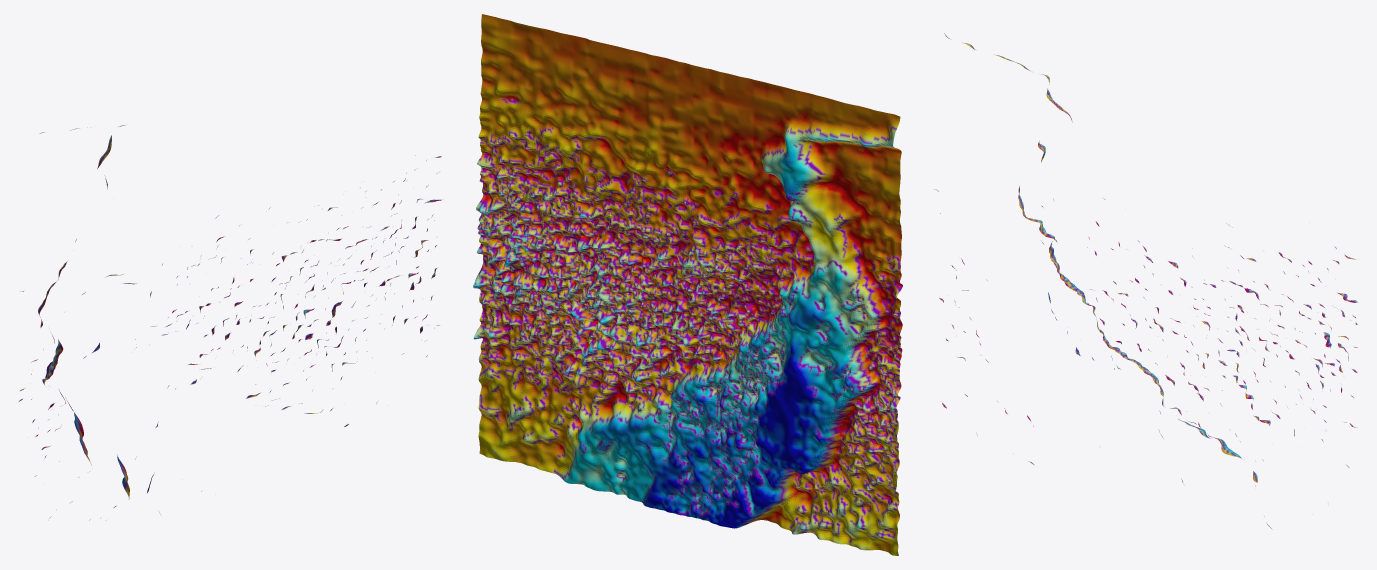
3 views of the same model, side by side, from view 1: azimuth 30°, elevation 25°; view 2: azimuth 150°, elevation 25°; view 3: azimuth 330°, elevation 25° (orthographic).
Parts seen in each view (by area): view 1: world; view 2: world; view 3: world.
Boxes of the visible parts, x1=… form: world: x1=19, y1=125, x2=441, y2=520; world: x1=473, y1=14, x2=902, y2=555; world: x1=934, y1=33, x2=1357, y2=529.
Size of the model in its own units: 299 by 299 by 24.5.
